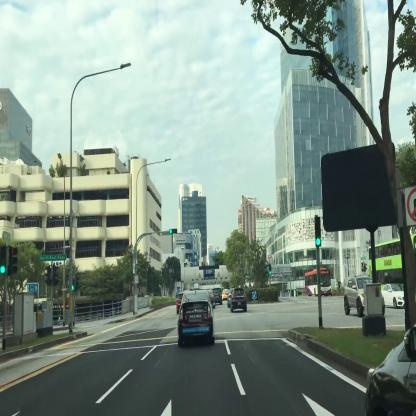green_traffic_light: (315, 218, 321, 246), (169, 228, 177, 232), (269, 264, 271, 273)
